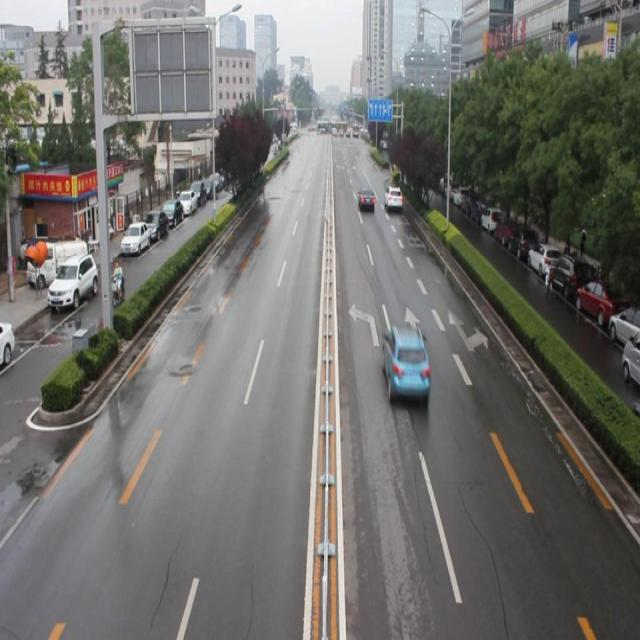car: (380, 326, 431, 402), (384, 185, 402, 212), (356, 188, 374, 210)
